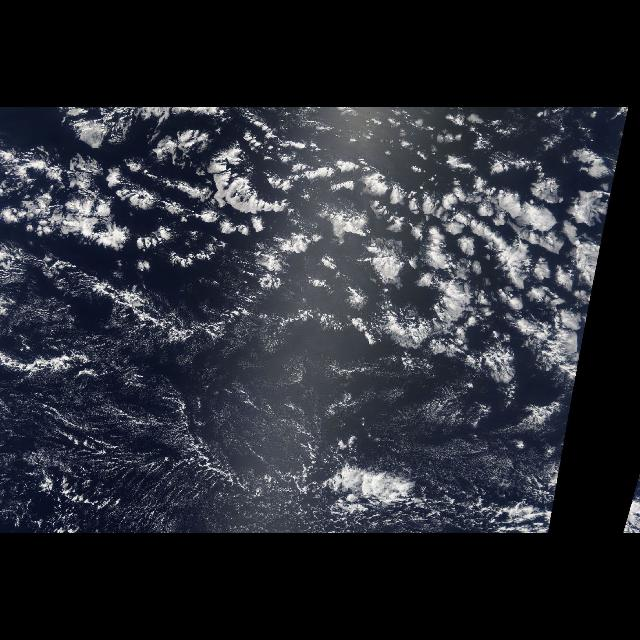Flower: (2, 107, 622, 387)
Gravel: (258, 436, 566, 528)
Sugar: (0, 335, 580, 533)
